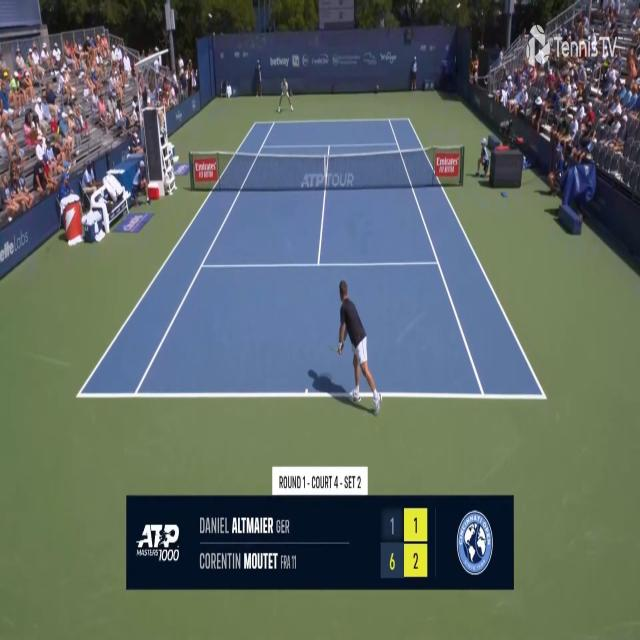tennis-player: (334, 276, 387, 416), (276, 78, 294, 114)
